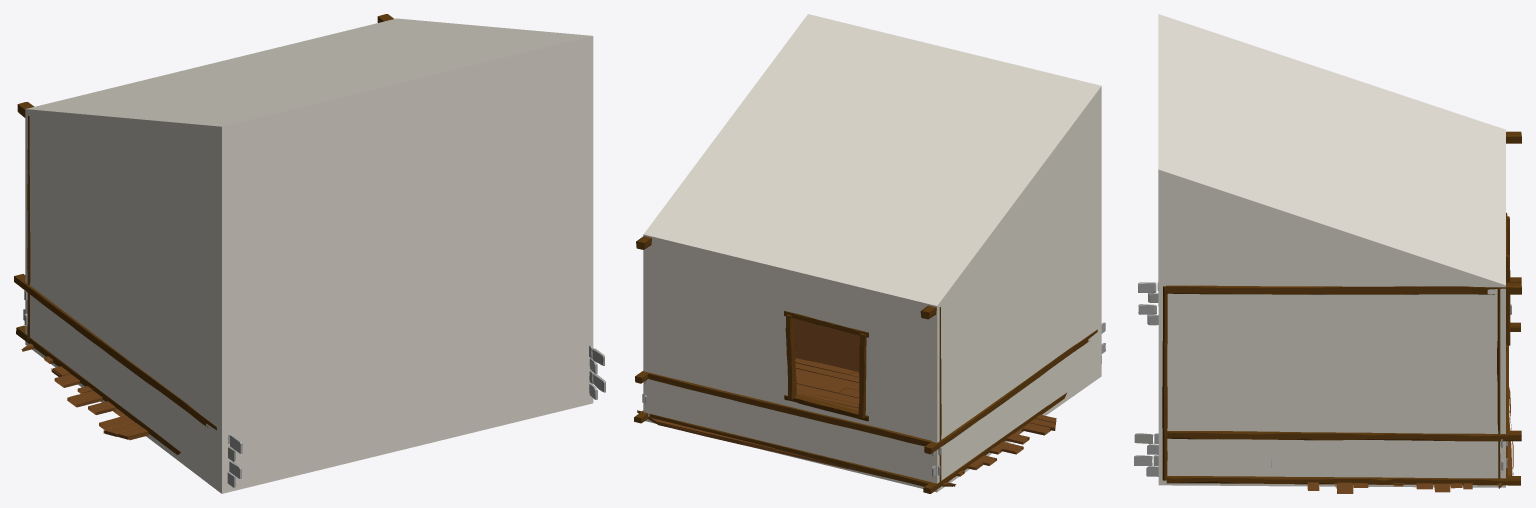
File: BPW2_Room.fbx
3 views of the same model, side by side, from view 1: azimuth 30°, elevation 25°; view 2: azimuth 150°, elevation 25°; view 3: azimuth 270°, elevation 25° (orthographic). The views are drawn at different scales.
Parts seen in each view (by area): view 1: RoomFrame, Pillar4.001, Floor, Pillar4, Bricks2.002; view 2: RoomFrame, Floor, Pillar4, Windowframe, Pillar4.001; view 3: RoomFrame, Pillar4.002, Floor, Pillar4, Bricks2.002, Bricks2.001, Windowframe.
Part boxes in pixels (x1,y1,x2,y2): RoomFrame: (25, 18, 593, 493); Pillar4.001: (14, 102, 216, 455); Floor: (21, 343, 148, 440); Pillar4: (27, 115, 30, 341); Bricks2.002: (589, 345, 605, 399); RoomFrame: (643, 14, 1101, 492); Floor: (637, 358, 1056, 486); Pillar4: (648, 307, 941, 486); Windowframe: (784, 311, 868, 421); Pillar4.001: (920, 305, 1097, 493); RoomFrame: (1158, 14, 1505, 487); Pillar4.002: (1162, 282, 1521, 485); Floor: (1307, 387, 1513, 493); Pillar4: (1497, 288, 1508, 478); Bricks2.002: (1134, 433, 1507, 476); Bricks2.001: (1138, 282, 1511, 325); Windowframe: (1506, 212, 1510, 351).
Size of the model in its own units: 5225 by 4283 by 4767.
